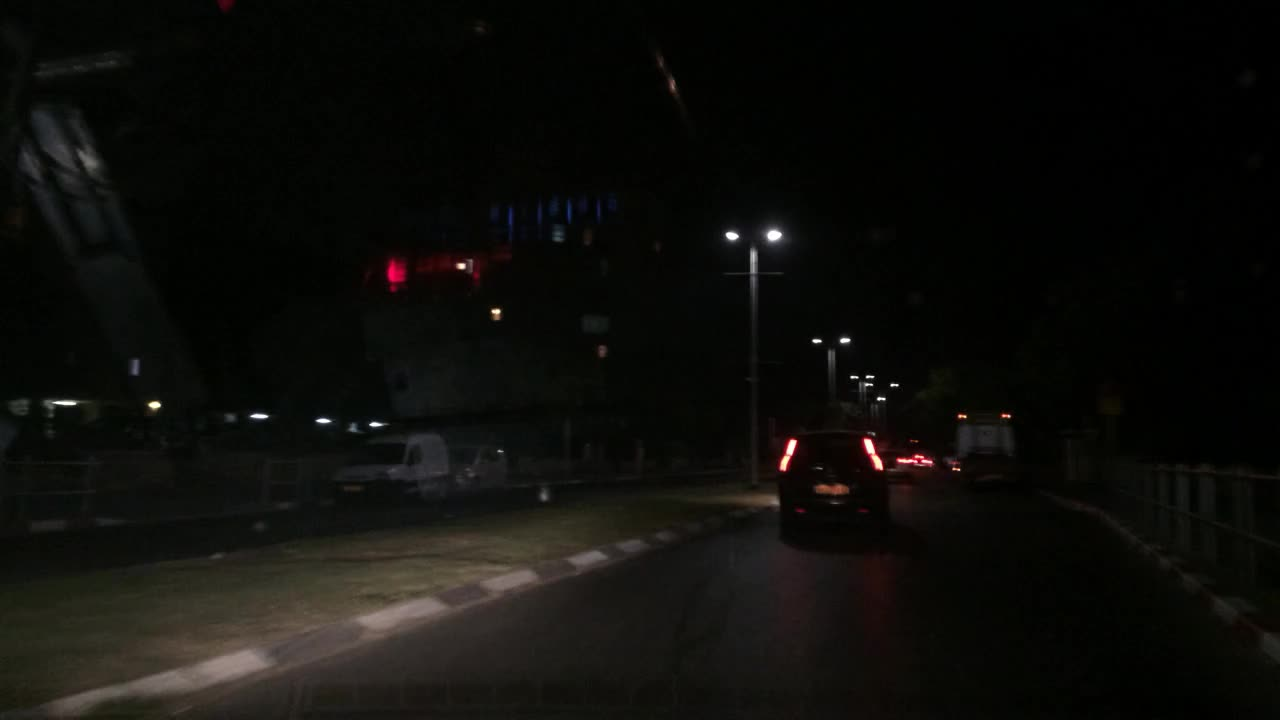car: (29, 417, 182, 513), (777, 425, 894, 545), (175, 416, 306, 492), (327, 427, 450, 507), (444, 442, 508, 491), (959, 446, 1021, 495), (880, 451, 912, 481), (908, 448, 936, 467), (939, 453, 957, 472)
traffic sign: (580, 313, 611, 333)
truck: (956, 412, 1016, 461)
